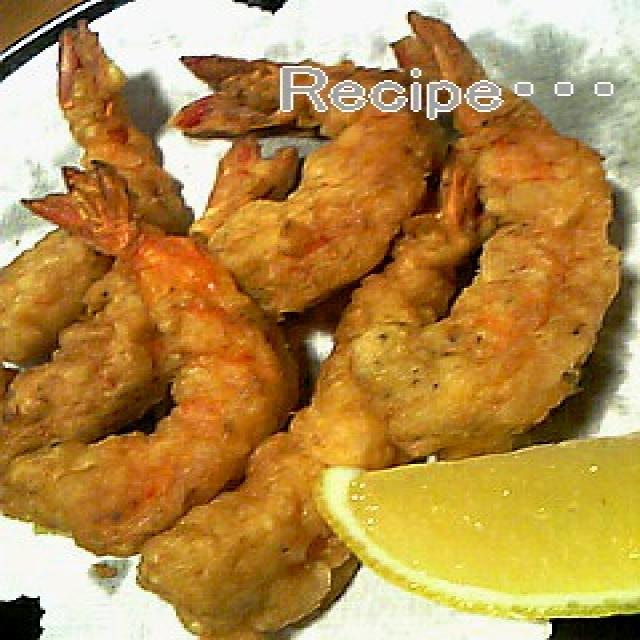炸货点心: (0, 120, 325, 596)
熟制海鲜: (0, 120, 325, 596)
